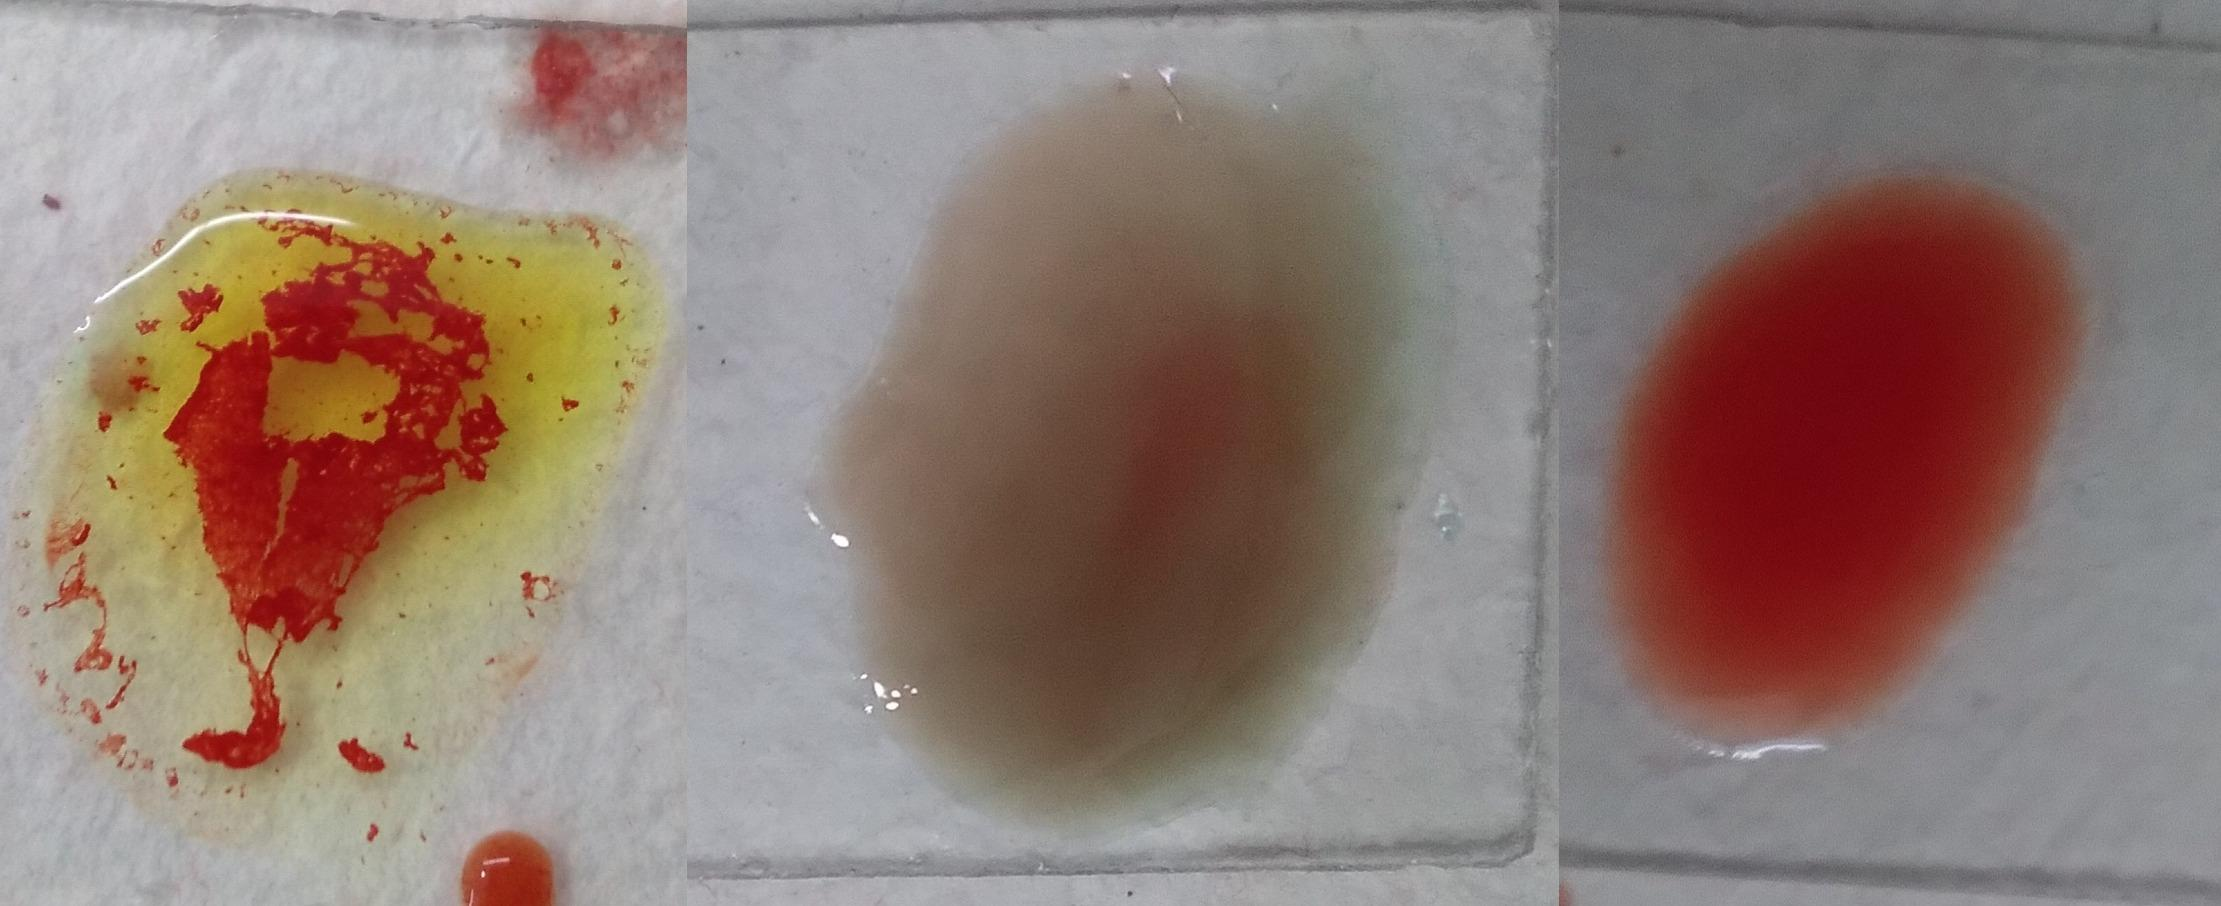B: (54, 174, 623, 805)
